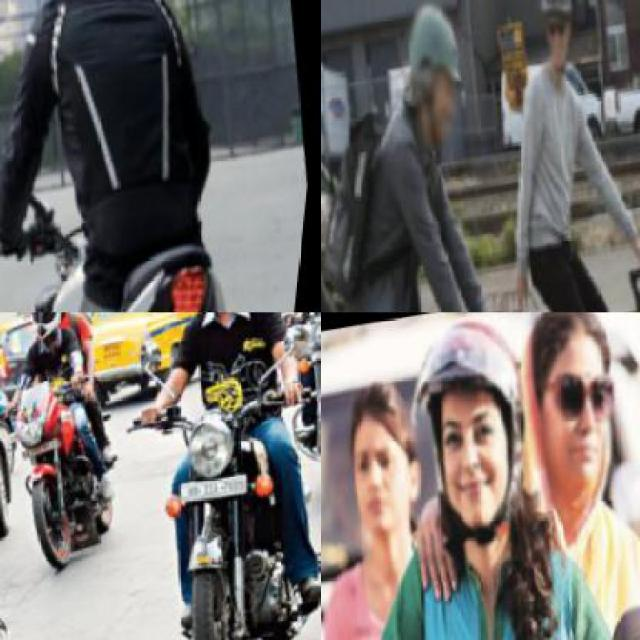With Helmet: (380, 312, 569, 577), (391, 0, 486, 154), (524, 0, 590, 82), (18, 312, 72, 340)
Without Helmet: (497, 312, 638, 514)
